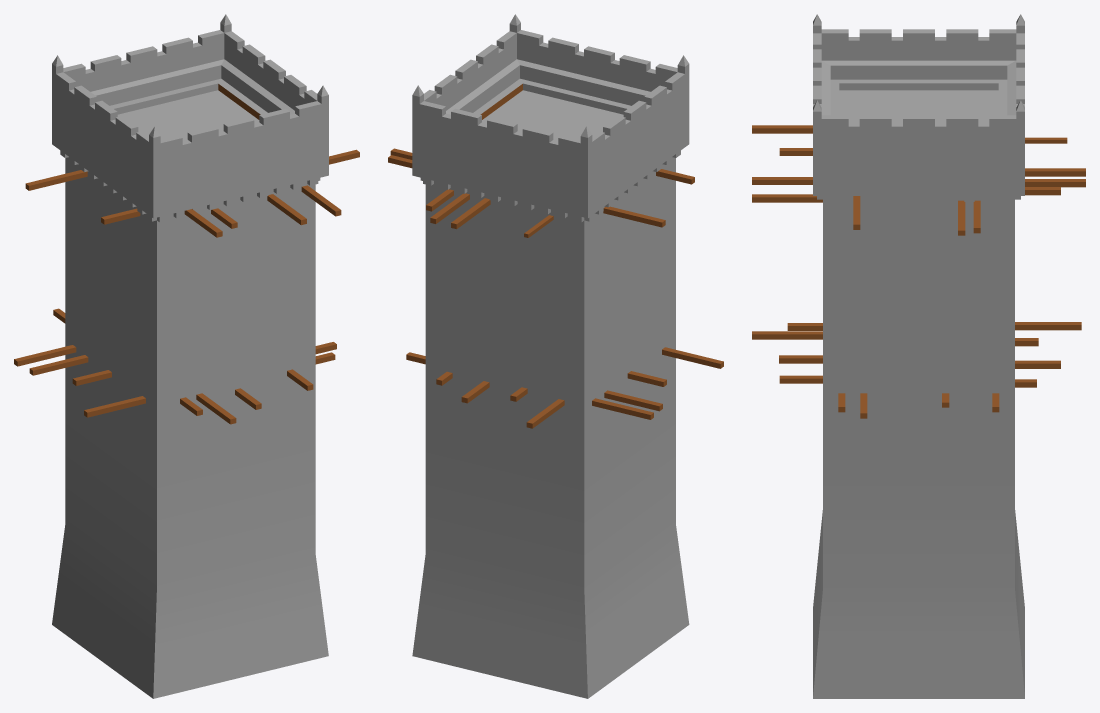
The model's file is Castle_New_Wall_Eastern_Tower_01.fbx.
3 renders of one model, left to right at view 1: azimuth 30°, elevation 25°; view 2: azimuth 150°, elevation 25°; view 3: azimuth 270°, elevation 25°, orthographic. The views are drawn at different scales.
Parts seen in each view (by area): view 1: Model; view 2: Model; view 3: Model.
Boxes of the visible parts, bbox=[...] form: Model: bbox=[14, 14, 359, 698]; Model: bbox=[388, 14, 723, 698]; Model: bbox=[752, 14, 1085, 698].
Bounding box in the file's own units: 1581 × 3121 × 1581.
